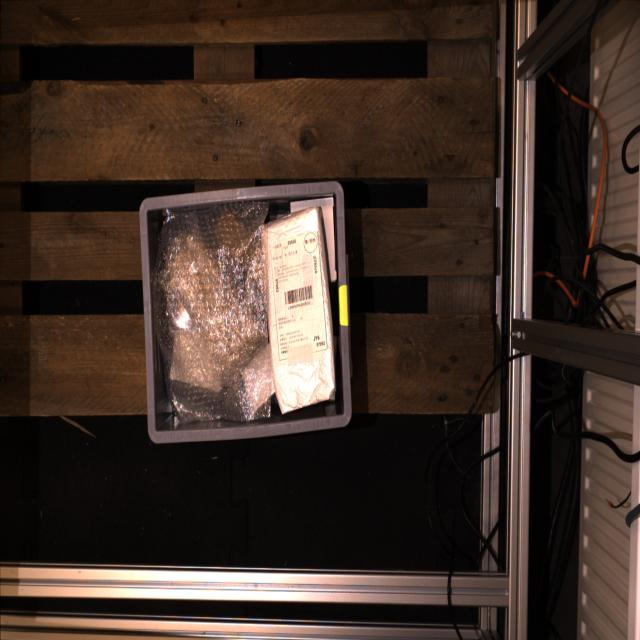CardboardBox: (166, 236, 261, 366), (168, 329, 223, 409), (290, 197, 336, 281), (215, 214, 254, 259)
Package: (259, 206, 336, 416)
PackagingAirBags: (153, 202, 274, 421)
PlasticContainer: (242, 343, 275, 415)
